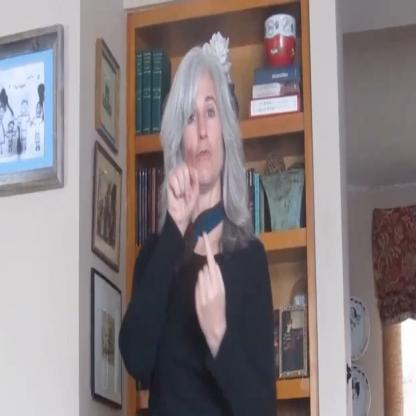NiceToMeetYou: (154, 152, 231, 351)
